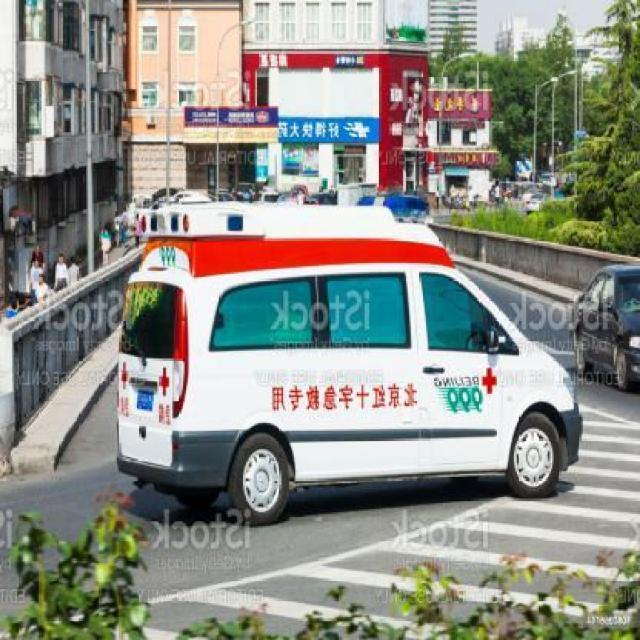emergency: (114, 198, 582, 526)
